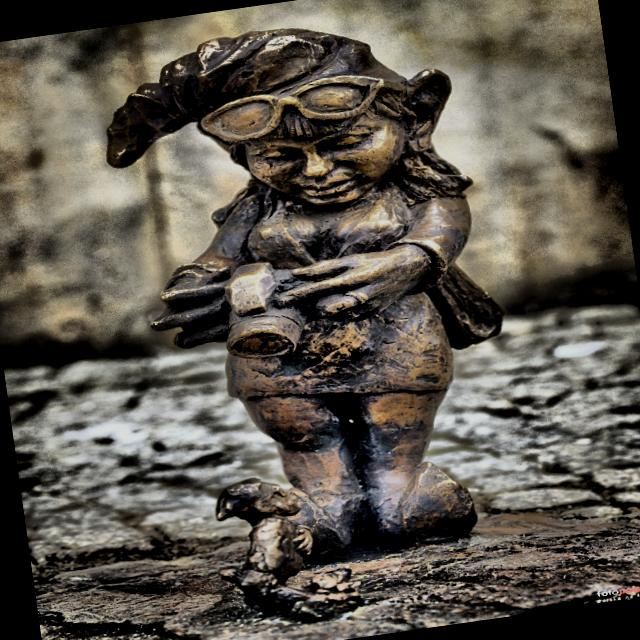Troszka i Adoratorek: (32, 30, 640, 640)
